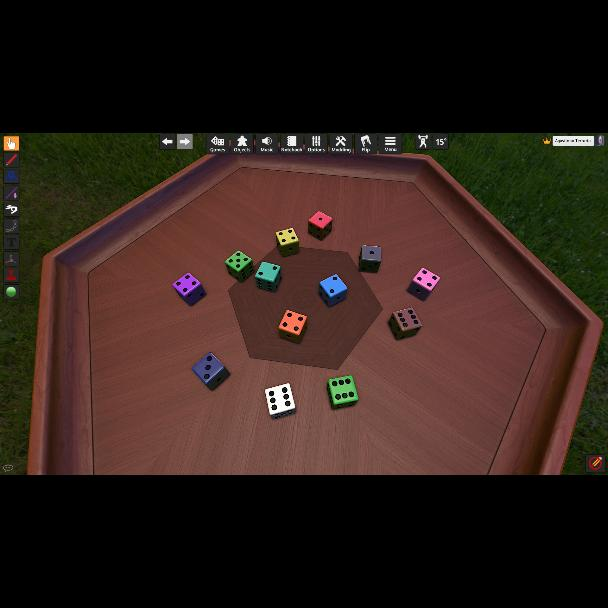d6: (192, 352, 228, 390), (172, 272, 206, 308), (264, 383, 296, 419), (408, 267, 438, 301), (328, 376, 358, 410), (388, 308, 418, 340), (278, 310, 306, 344), (319, 274, 347, 308), (225, 250, 253, 282), (254, 262, 282, 292), (274, 228, 298, 258), (308, 212, 332, 241), (358, 245, 380, 273)
